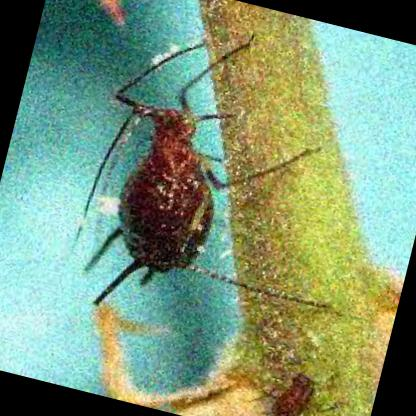uroleucon compositae: (73, 44, 337, 313)
